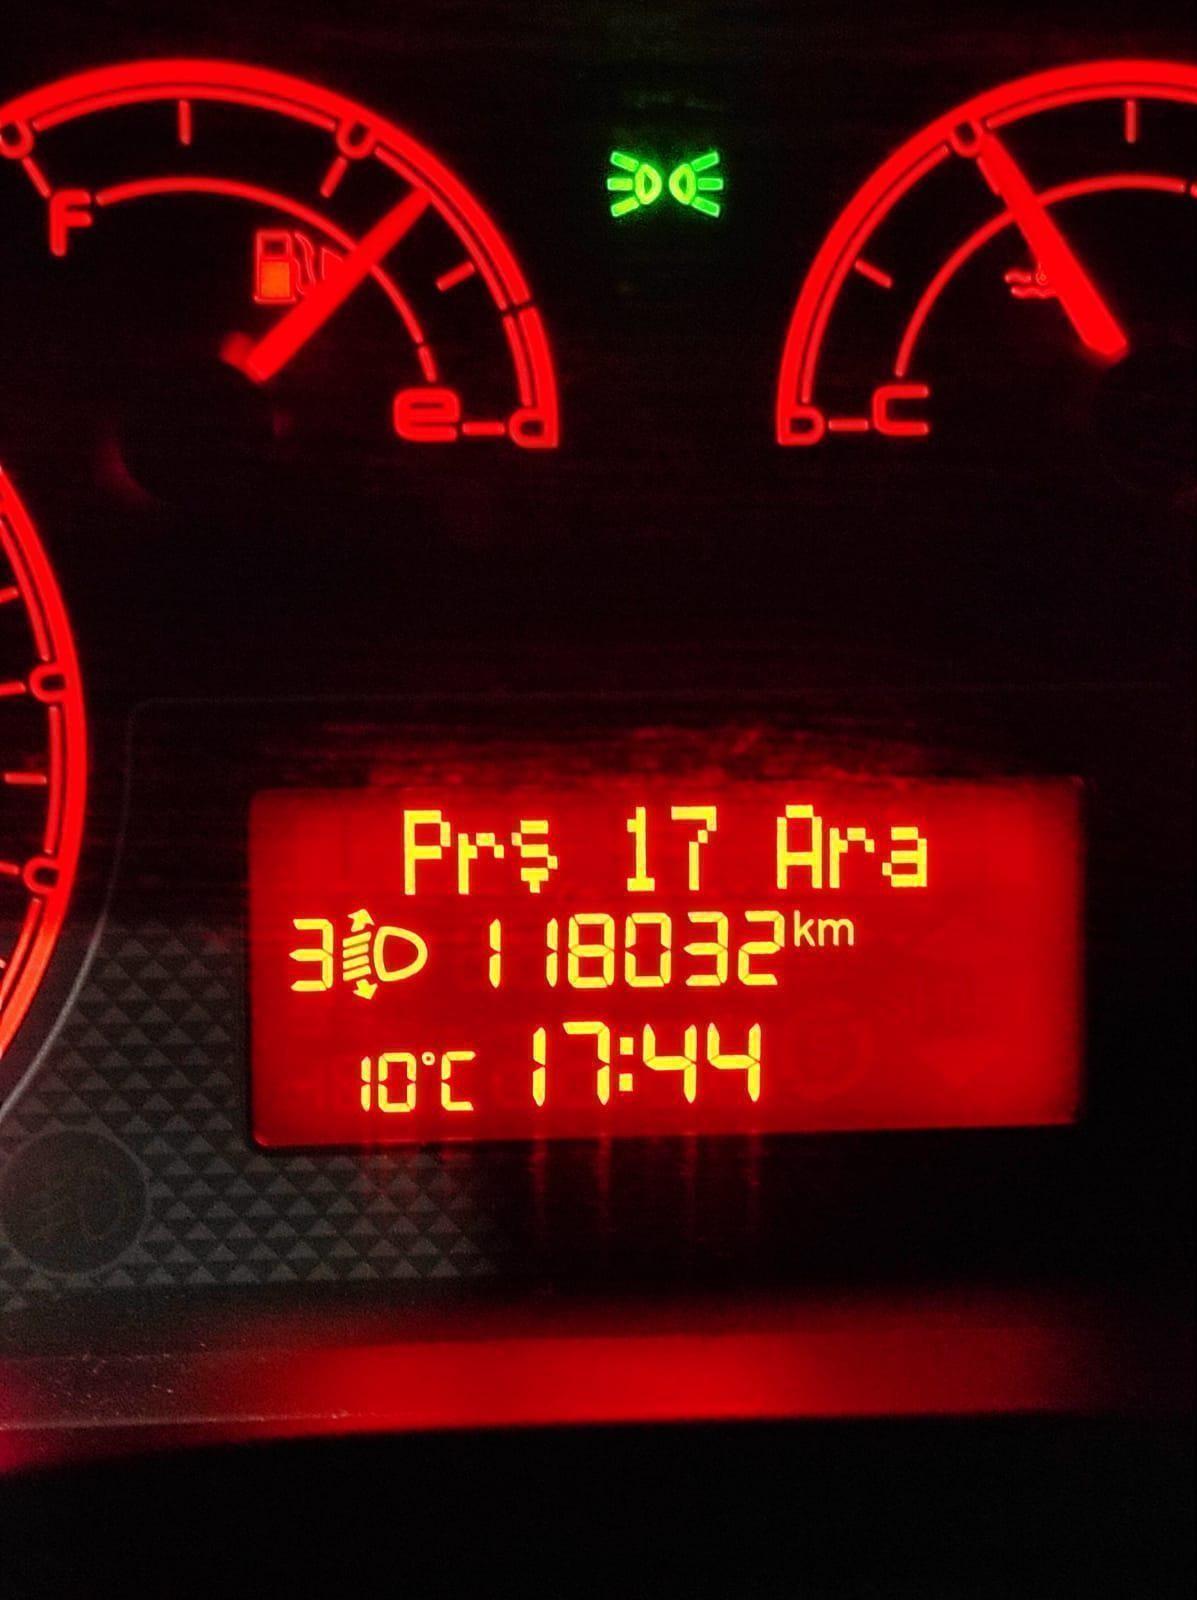0: (622, 907, 676, 990), (377, 1049, 419, 1116)
1: (622, 802, 661, 900), (480, 910, 510, 997), (526, 1021, 549, 1114), (541, 909, 561, 995), (357, 1052, 375, 1114)
2: (738, 904, 785, 992)
3: (285, 910, 338, 1002), (684, 906, 729, 994)
4: (705, 1018, 767, 1106), (641, 1019, 702, 1104)
7: (668, 801, 723, 894), (561, 1017, 611, 1104)
8: (567, 907, 619, 989)
X: (399, 802, 449, 897), (772, 802, 825, 892), (510, 814, 566, 900), (456, 822, 505, 899), (880, 823, 930, 896), (825, 822, 875, 889), (439, 1047, 479, 1114), (817, 912, 856, 951), (614, 1028, 635, 1099), (792, 905, 815, 950)
odometer: (236, 770, 1103, 1146)
